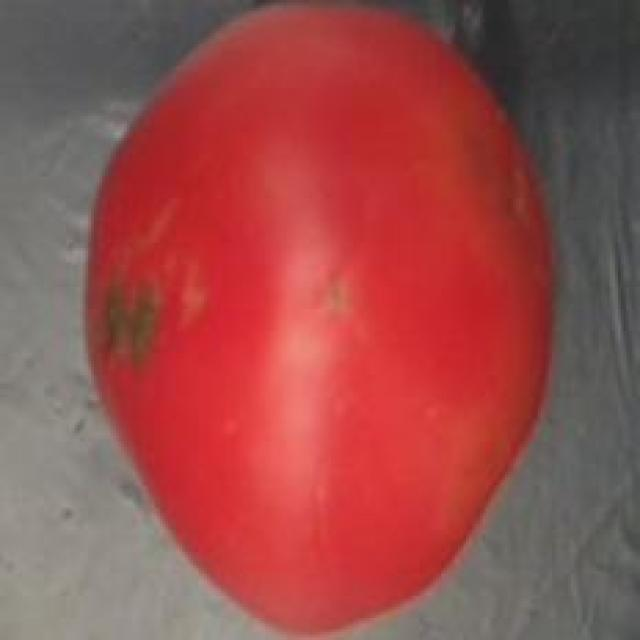overripe tomato: (72, 3, 568, 640)
